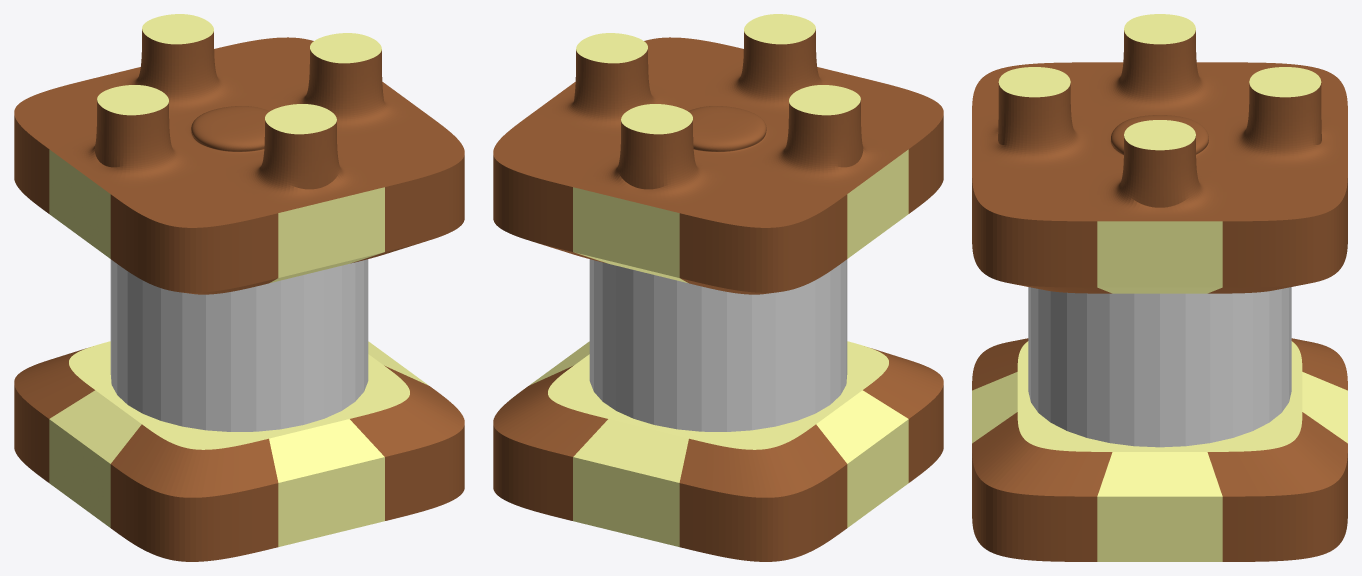
The model's file is Generador3.fbx.
3 renders of one model, left to right at view 1: azimuth 30°, elevation 25°; view 2: azimuth 150°, elevation 25°; view 3: azimuth 270°, elevation 25°, orthographic.
Visible parts, largest first — view 1: Bases, Vidrio; view 2: Bases, Vidrio; view 3: Bases, Vidrio.
Part boxes in pixels (x1,y1,x2,y2): Bases: (14, 14, 464, 561); Vidrio: (110, 259, 368, 431); Bases: (493, 14, 943, 561); Vidrio: (589, 259, 847, 431); Bases: (972, 14, 1347, 561); Vidrio: (1028, 287, 1291, 447).
Bounding box in the file's own units: 200 × 235 × 200.
